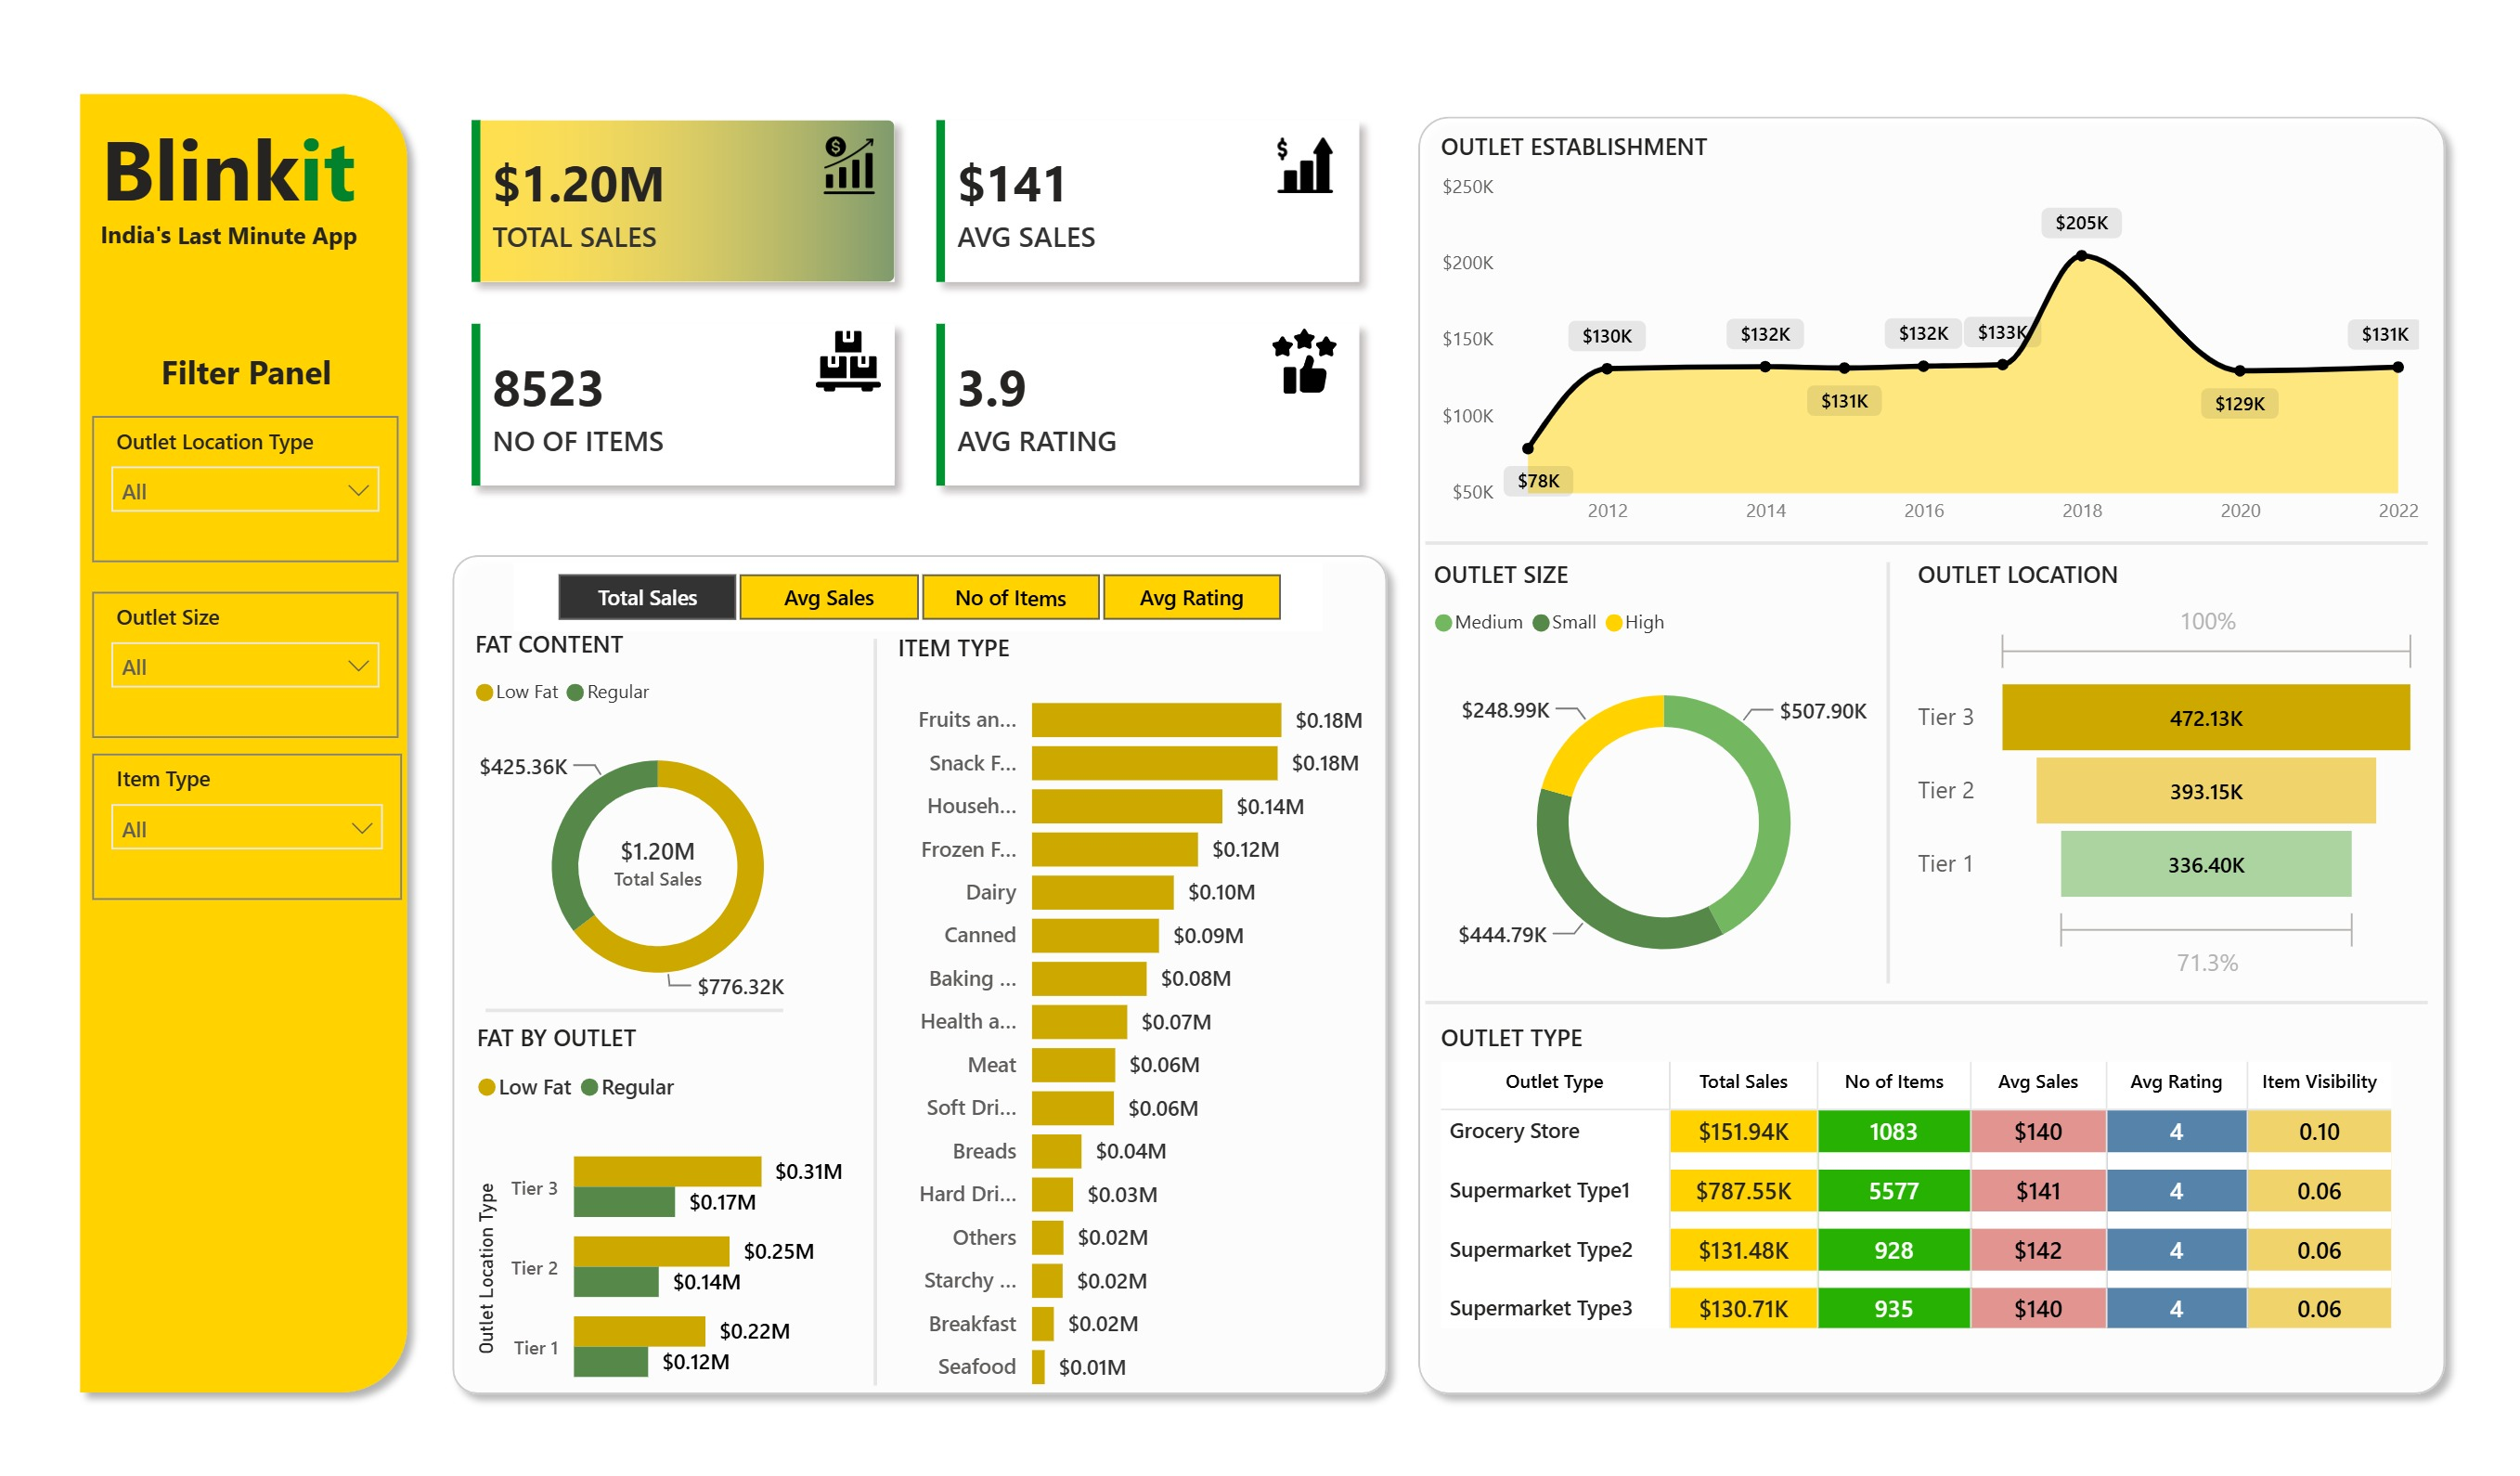

This screenshot's page, from the dashboard's own definition file:
{"tool":"powerbi","page":{"name":"Page 1","canvas":[1400,800],"ordinal":0},"visuals":[{"type":"shape","box":[13.3,21.3,205.3,764],"z":0},{"type":"textbox","box":[29.5,33.5,189,75.1],"z":1000},{"type":"textbox","box":[13.4,96.5,189,42.9],"z":2000},{"type":"cardVisual","fields":{"Data":["BlinkIT Grocery Data.Total Sales","BlinkIT Grocery Data.Avg Sales","BlinkIT Grocery Data.No of Items","BlinkIT Grocery Data.Avg Rating"]},"box":[218.5,16.1,569.7,269.4],"z":3000},{"type":"image","box":[439.7,53.6,46.9,34.9],"z":4000},{"type":"image","box":[699.7,53.6,50.9,34.9],"z":5000},{"type":"image","box":[699.7,164.9,50.9,37.5],"z":6000},{"type":"image","box":[439.7,164.9,46.9,37.5],"z":7000},{"type":"shape","box":[226.5,285.5,555,500],"z":8000},{"type":"donutChart","title":"FAT CONTENT","fields":{"Y":["BlinkIT Grocery Data.Total Sales"],"Category":["BlinkIT Grocery Data.Item Fat Content"]},"box":[244,337.3,220,229.3],"z":9000},{"type":"slicer","fields":{"Values":["Metrics.Metrics"]},"box":[270.8,298.9,465.1,40.2],"z":10000},{"type":"cardVisual","fields":{"Data":["BlinkIT Grocery Data.Total Sales"]},"box":[297.6,434.3,112.6,75.1],"z":11000},{"type":"clusteredBarChart","title":"FAT BY OUTLET","fields":{"Y":["BlinkIT Grocery Data.Total Sales"],"Category":["BlinkIT Grocery Data.Outlet Location Type"],"Series":["BlinkIT Grocery Data.Item Fat Content"]},"box":[245.3,562.7,220,229.3],"z":12000},{"type":"shape","box":[254.7,545.6,171.6,21.4],"z":13000},{"type":"shape","box":[454.4,343.2,49.6,429],"z":14000},{"type":"barChart","title":"ITEM TYPE","fields":{"Y":["BlinkIT Grocery Data.Total Sales"],"Category":["BlinkIT Grocery Data.Item Type"]},"box":[486.6,339.1,277.5,446.4],"z":15000},{"type":"shape","box":[781.5,33.5,608.6,752],"z":16000},{"type":"lineChart","title":"OUTLET ESTABLISHMENT","fields":{"Y":["BlinkIT Grocery Data.Total Sales"],"Category":["BlinkIT Grocery Data.Outlet Establishment Year"]},"box":[798.9,50.9,572.4,234.6],"z":17000},{"type":"shape","box":[794.9,277.5,576.4,21.4],"z":18000},{"type":"donutChart","title":"OUTLET SIZE","fields":{"Y":["BlinkIT Grocery Data.Total Sales"],"Category":["BlinkIT Grocery Data.Outlet Size"]},"box":[794.7,297.3,274.7,258.7],"z":19000},{"type":"shape","box":[1049.3,298.7,24,242.7],"z":20000},{"type":"funnel","title":"OUTLET LOCATION","fields":{"Category":["BlinkIT Grocery Data.Outlet Location Type"],"Y":["Sum(BlinkIT Grocery Data.Sales)"]},"box":[1073.3,297.3,297.3,248],"z":21000},{"type":"shape","box":[794.7,541.3,576,21.3],"z":22000},{"type":"pivotTable","title":"OUTLET TYPE","fields":{"Rows":["BlinkIT Grocery Data.Outlet Type"],"Values":["BlinkIT Grocery Data.Total Sales","BlinkIT Grocery Data.No of Items","BlinkIT Grocery Data.Avg Sales","BlinkIT Grocery Data.Avg Rating","Avg(BlinkIT Grocery Data.Item Visibility)"]},"box":[798.7,562.7,572,209.3],"z":23000},{"type":"slicer","fields":{"Values":["BlinkIT Grocery Data.Outlet Location Type"]},"box":[29.3,214.7,176,84],"z":24000},{"type":"slicer","fields":{"Values":["BlinkIT Grocery Data.Outlet Size"]},"box":[29.3,316,176,84],"z":25000},{"type":"slicer","fields":{"Values":["BlinkIT Grocery Data.Item Type"]},"box":[29.3,409.3,177.3,84],"z":26000},{"type":"textbox","box":[36,172,162.7,42.7],"z":26001}]}

Visuals, with their boxes in screenshot pixels (x1, y1, x2, y2), scaled from the page's 1400x800 canvas onto the 2520x1476 screenshot:
shape: (24,39,394,1449)
textbox: (53,62,394,201)
textbox: (24,178,365,257)
cardVisual - BlinkIT Grocery Data.Total Sales x BlinkIT Grocery Data.Avg Sales: (394,30,1419,526)
image: (792,99,876,163)
image: (1260,99,1351,163)
image: (1260,304,1351,373)
image: (792,304,876,373)
shape: (407,526,1407,1449)
"FAT CONTENT" donutChart: (439,622,835,1045)
slicer - Metrics.Metrics: (487,551,1325,626)
cardVisual - BlinkIT Grocery Data.Total Sales: (536,801,738,939)
"FAT BY OUTLET" clusteredBarChart: (442,1038,837,1461)
shape: (459,1006,768,1046)
shape: (818,633,907,1425)
"ITEM TYPE" barChart: (876,626,1376,1449)
shape: (1407,62,2502,1449)
"OUTLET ESTABLISHMENT" lineChart: (1438,94,2468,526)
shape: (1431,512,2468,551)
"OUTLET SIZE" donutChart: (1430,549,1925,1026)
shape: (1889,551,1932,999)
"OUTLET LOCATION" funnel: (1932,549,2467,1006)
shape: (1430,999,2467,1038)
"OUTLET TYPE" pivotTable: (1438,1038,2467,1424)
slicer - BlinkIT Grocery Data.Outlet Location Type: (53,396,369,551)
slicer - BlinkIT Grocery Data.Outlet Size: (53,583,369,738)
slicer - BlinkIT Grocery Data.Item Type: (53,755,372,910)
textbox: (65,317,357,396)
